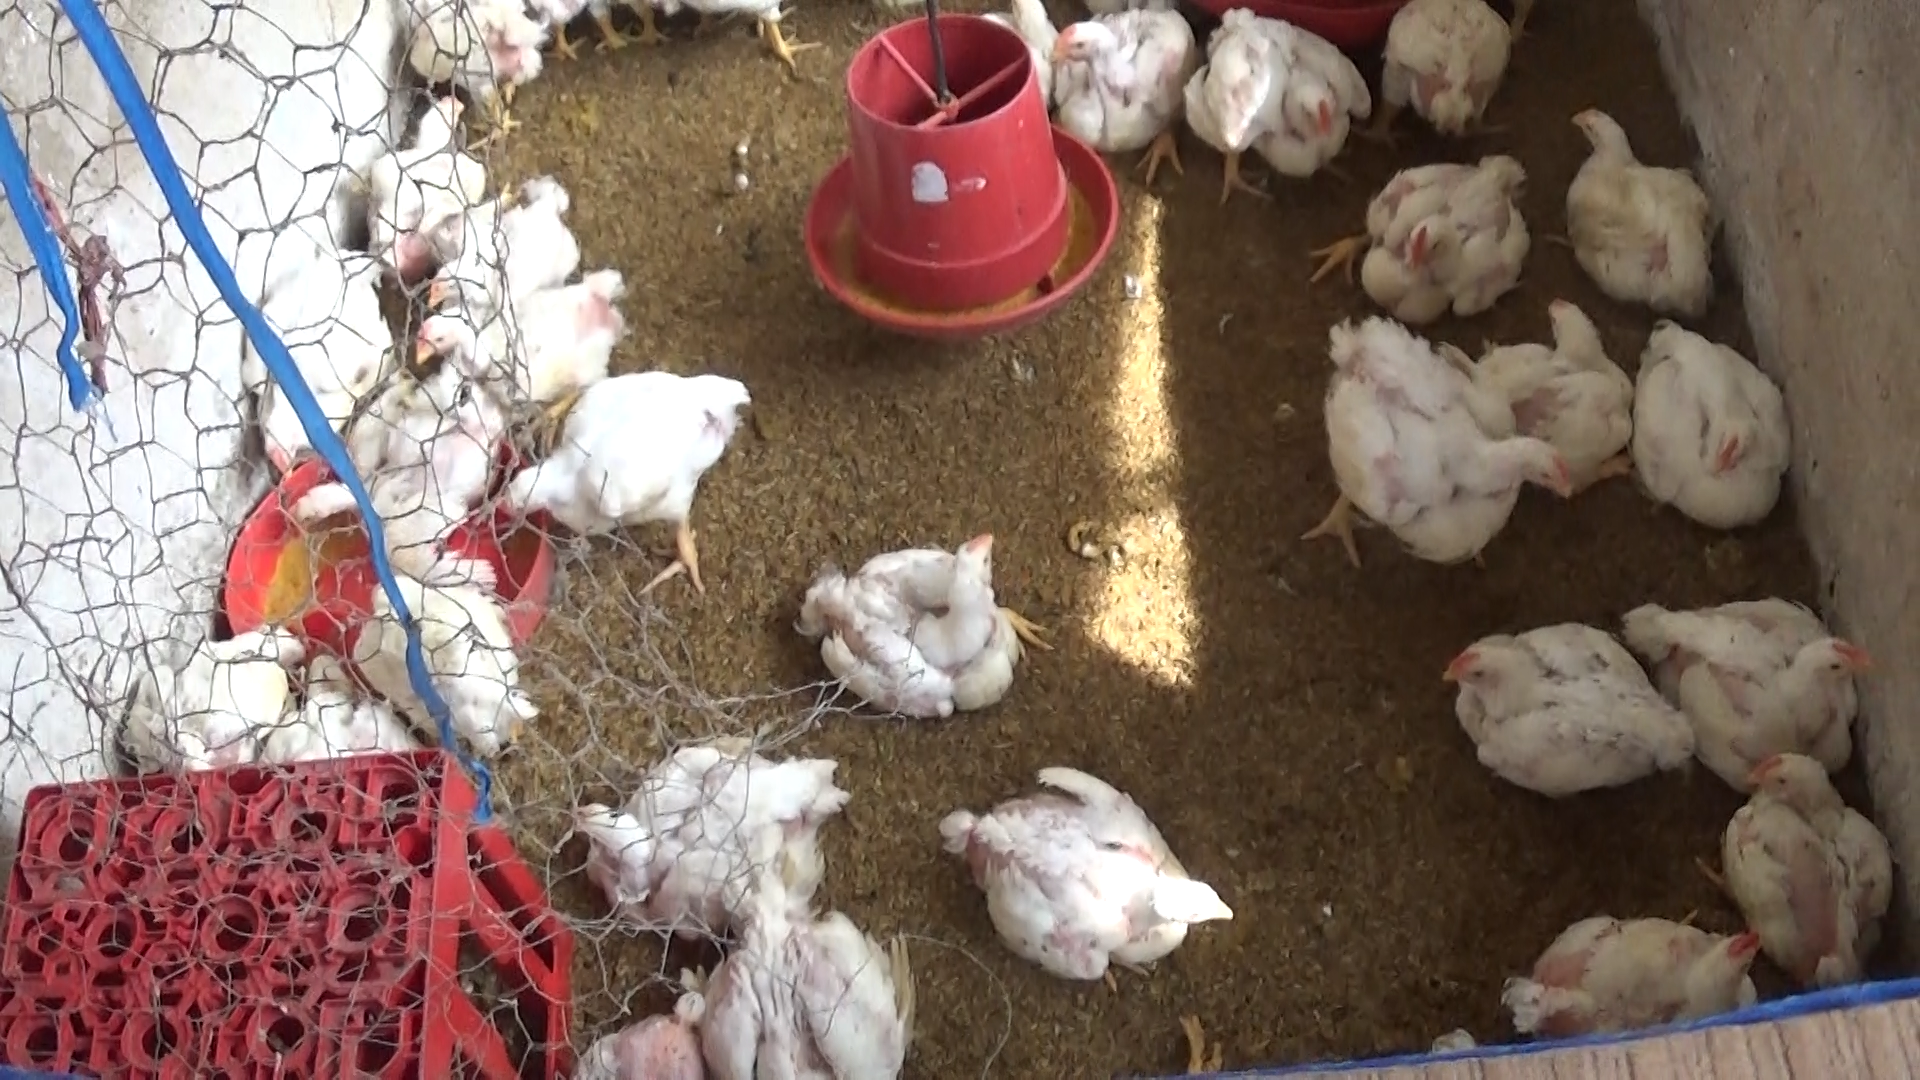Pollos: (1302, 314, 1563, 572), (931, 760, 1221, 977), (571, 705, 829, 920), (1404, 611, 1685, 798), (530, 359, 754, 576), (342, 506, 533, 748), (1644, 593, 1880, 787), (806, 520, 1036, 705), (1636, 295, 1821, 522), (1486, 902, 1762, 1047), (417, 262, 646, 431), (1323, 152, 1549, 307), (1739, 752, 1884, 984), (1563, 96, 1717, 314), (1509, 286, 1651, 508), (1196, 11, 1373, 178), (1035, 3, 1196, 171), (356, 74, 491, 237), (1393, 0, 1531, 135), (431, 187, 571, 318)
